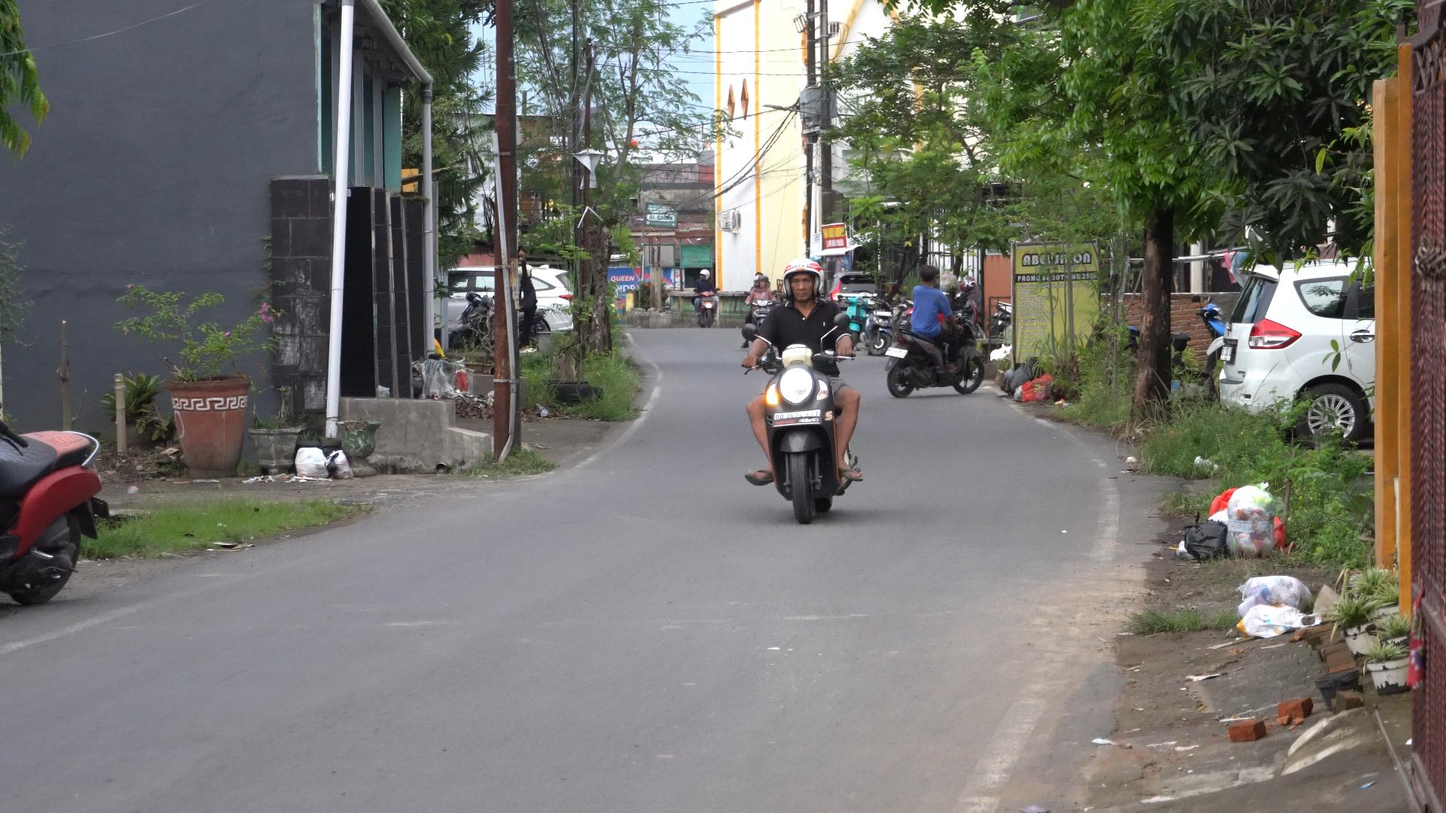number-plate: (771, 410, 824, 426)
